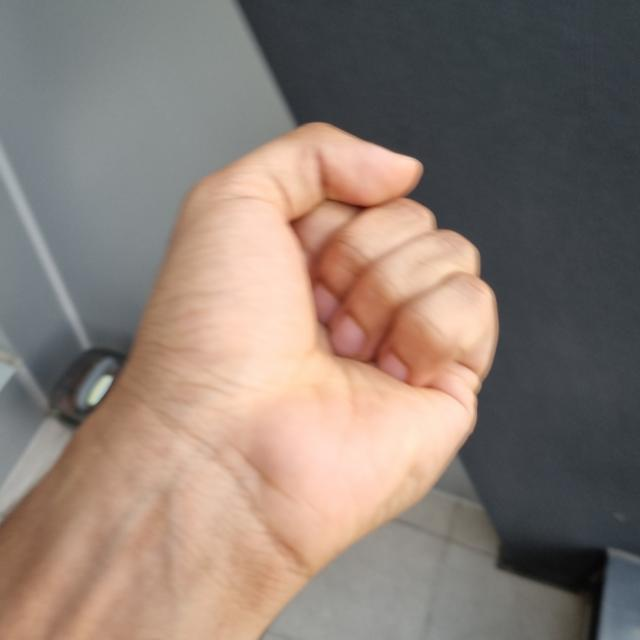Rock: (121, 124, 497, 564)
